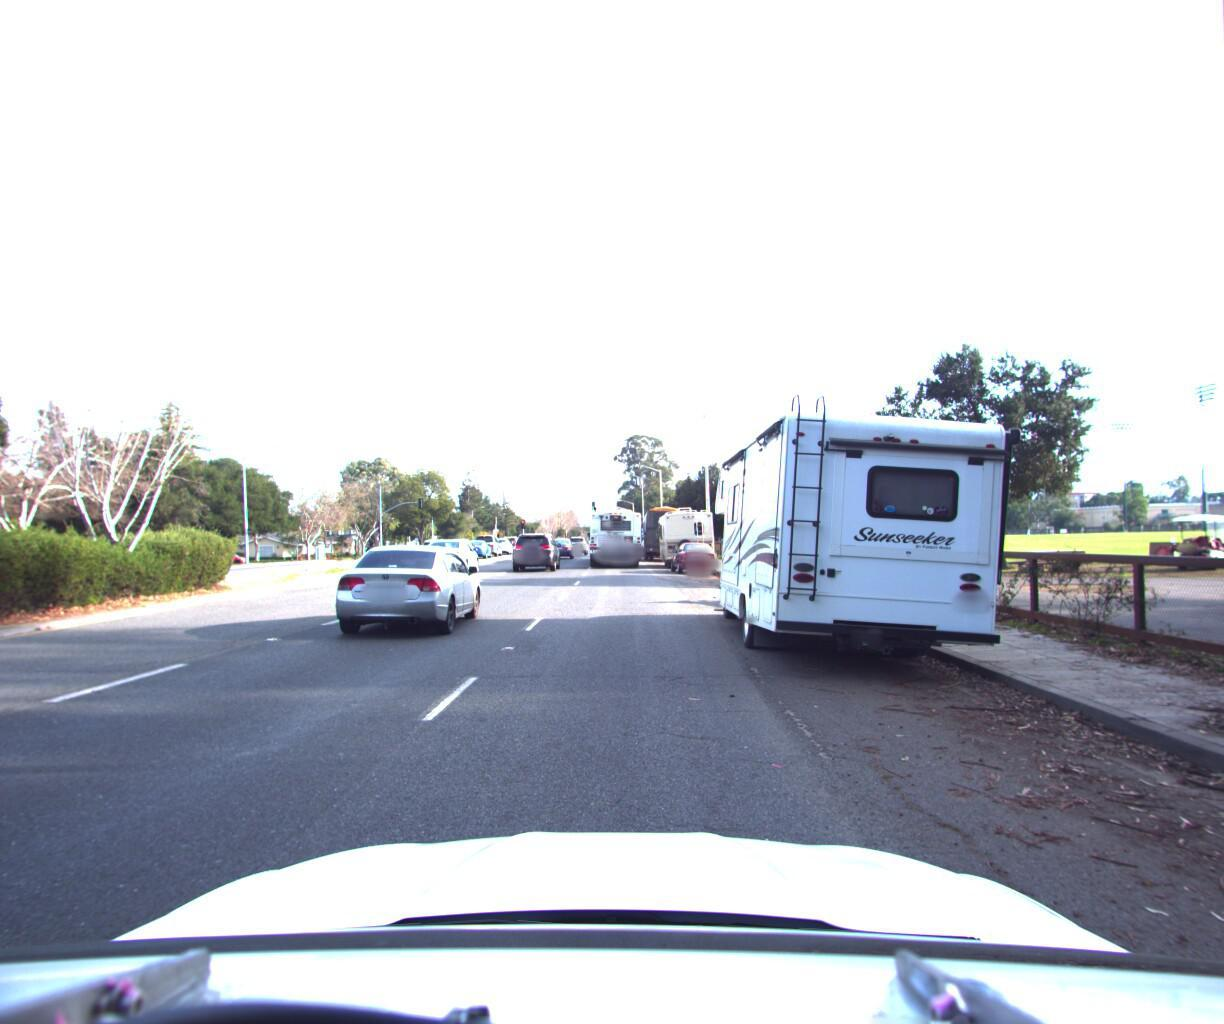bus: (583, 495, 644, 562), (640, 500, 694, 556)
car: (322, 533, 490, 634), (421, 534, 482, 571), (511, 526, 560, 567), (670, 534, 720, 573), (472, 527, 505, 552), (462, 532, 495, 554), (549, 535, 578, 556), (489, 530, 515, 549), (574, 533, 598, 550)
other_vehicle: (701, 390, 1030, 690), (657, 499, 716, 564)
